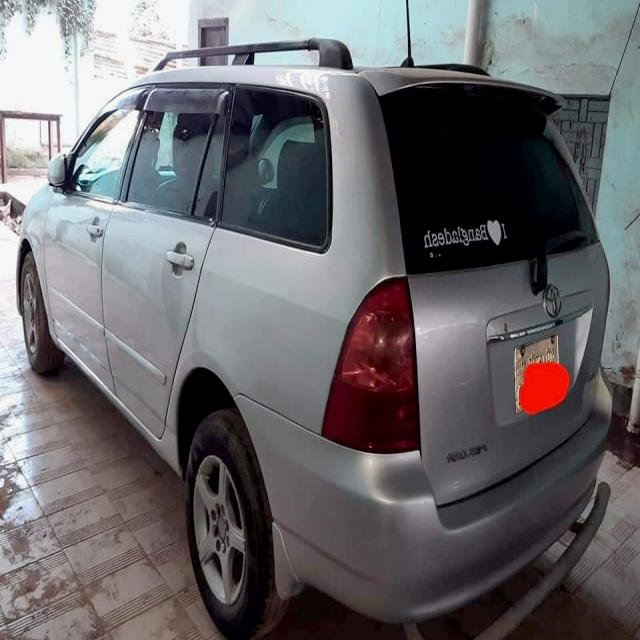silver: (23, 65, 614, 617)
